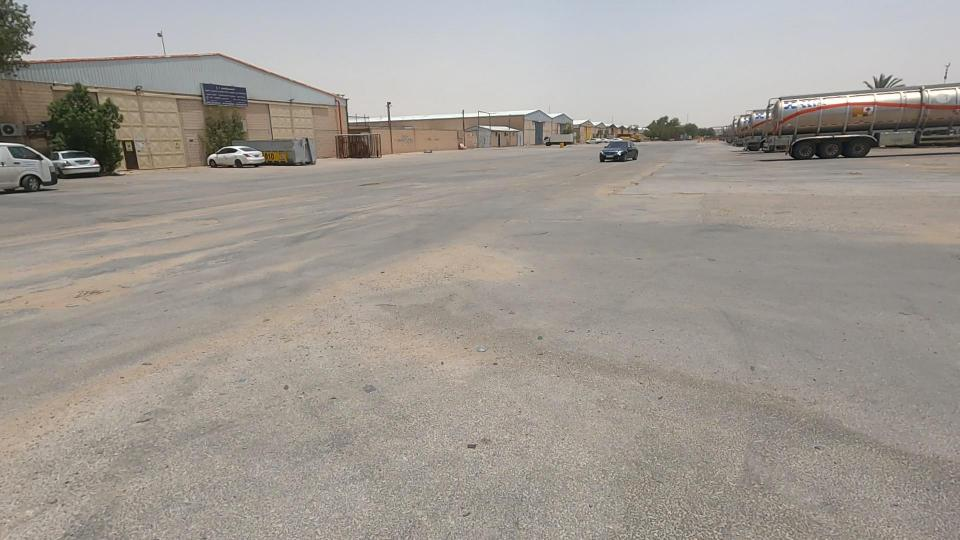POTHOLES: (313, 220, 534, 430), (371, 188, 588, 361), (6, 224, 199, 346), (590, 151, 682, 224), (322, 155, 412, 222)
